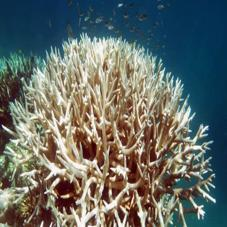bleached_corals: (0, 35, 215, 227)
